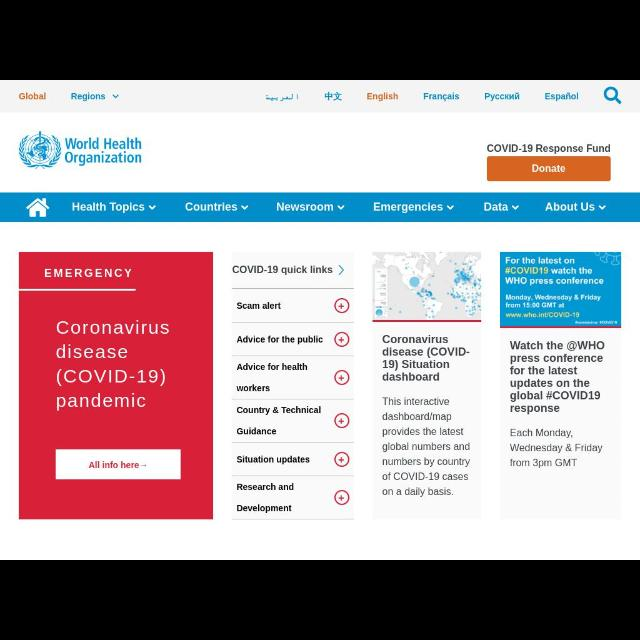button: (334, 332, 350, 348), (334, 298, 351, 312), (335, 372, 351, 386), (336, 452, 350, 468), (334, 491, 350, 504), (334, 414, 348, 428)
icon: (26, 198, 50, 218), (604, 86, 622, 108), (148, 202, 158, 212), (336, 204, 346, 212), (597, 203, 607, 211), (446, 204, 454, 212), (512, 204, 520, 212), (242, 204, 248, 212), (111, 94, 119, 100)
image: (500, 252, 622, 328), (372, 254, 480, 322), (19, 132, 143, 170)
multitab: (2, 194, 640, 222)
spinner: (108, 90, 120, 102), (238, 202, 250, 214), (334, 264, 346, 276), (506, 202, 520, 212), (146, 202, 158, 212), (594, 202, 608, 210), (444, 202, 454, 212), (334, 203, 346, 211)
text: (57, 322, 169, 410), (382, 396, 472, 496), (510, 341, 606, 414), (383, 334, 471, 380), (512, 427, 604, 465), (236, 406, 322, 436), (237, 363, 307, 392), (236, 483, 294, 513), (488, 144, 610, 154), (232, 264, 332, 276), (44, 267, 132, 279), (72, 200, 146, 213), (238, 334, 322, 344), (372, 202, 443, 212), (185, 202, 238, 214), (238, 456, 310, 464), (276, 204, 334, 212), (70, 90, 106, 102), (90, 461, 140, 469), (547, 202, 595, 210), (236, 302, 282, 310), (424, 92, 460, 102), (545, 92, 579, 102), (484, 93, 522, 101), (366, 92, 398, 101), (265, 94, 299, 102), (532, 164, 566, 172), (484, 202, 508, 212), (18, 92, 46, 100), (324, 91, 342, 102)
textbutton: (56, 450, 180, 480), (487, 156, 611, 180)
